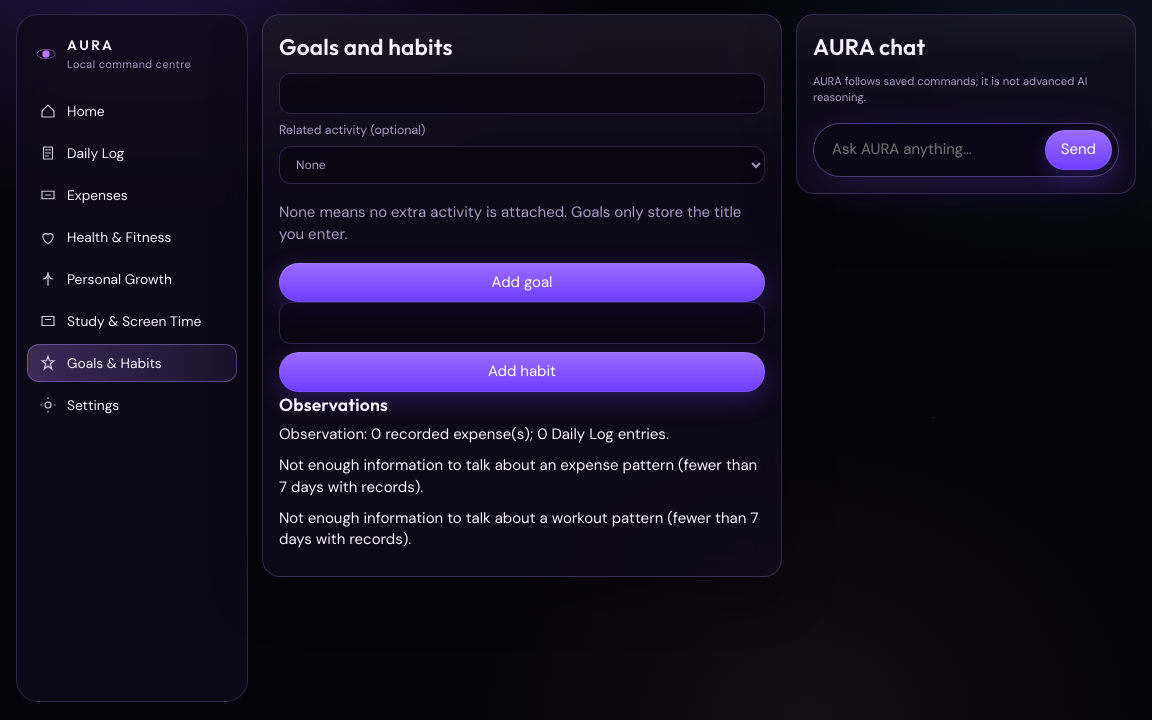
it: suggestions do not apply until accept and habit delete
Type "Read" into the field named "Habit name".
click(522, 323); type("Read")  # box [279,302,765,344]
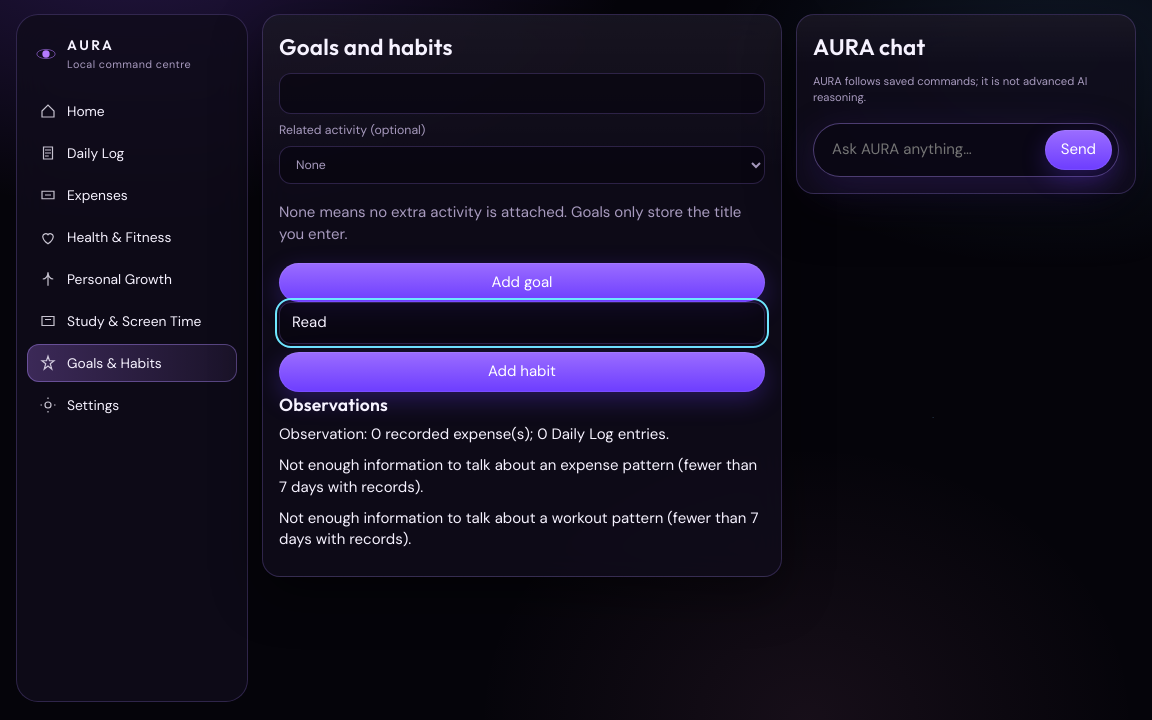
Click the button "Add habit".
click(522, 372)  # box [279,352,765,392]
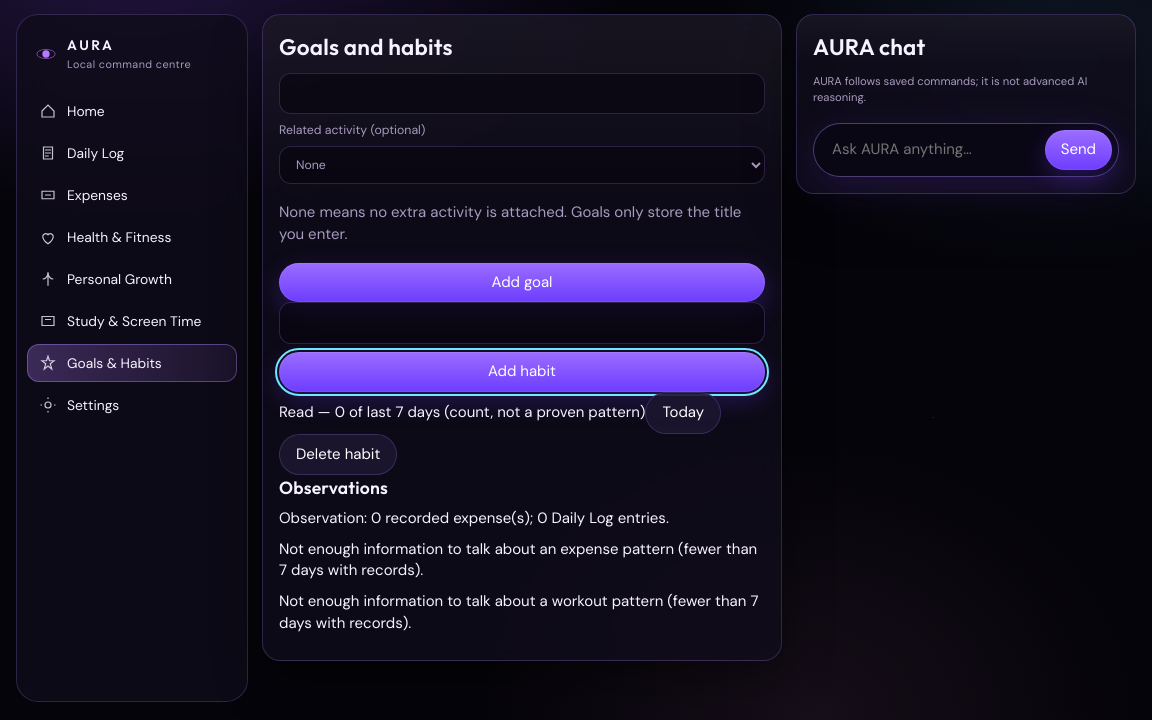
expect the list item "Read" is shown: met, box [279,402,314,422]
Click the button "Delete habit".
click(338, 455)  # box [279,434,397,476]
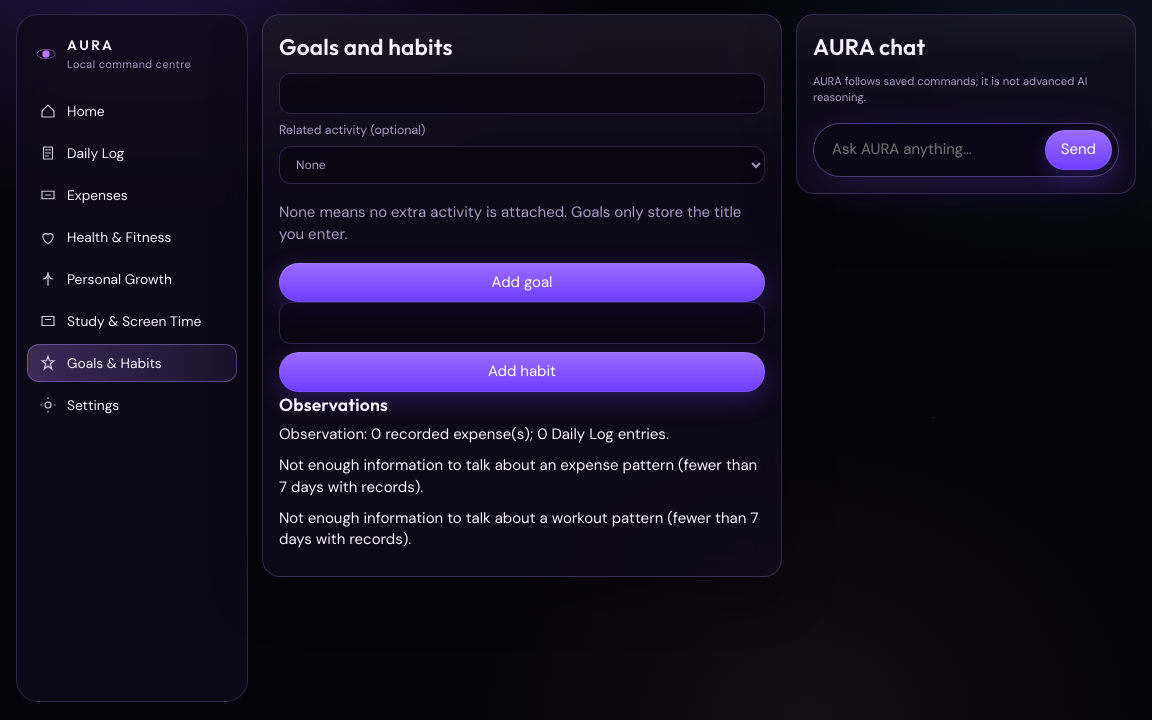
expect the list item "Read —" is gone: met
